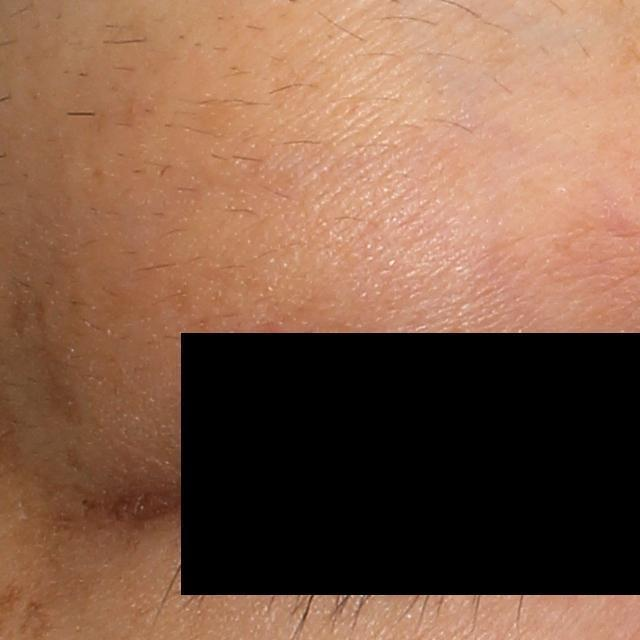melasma: (35, 285, 87, 435)
